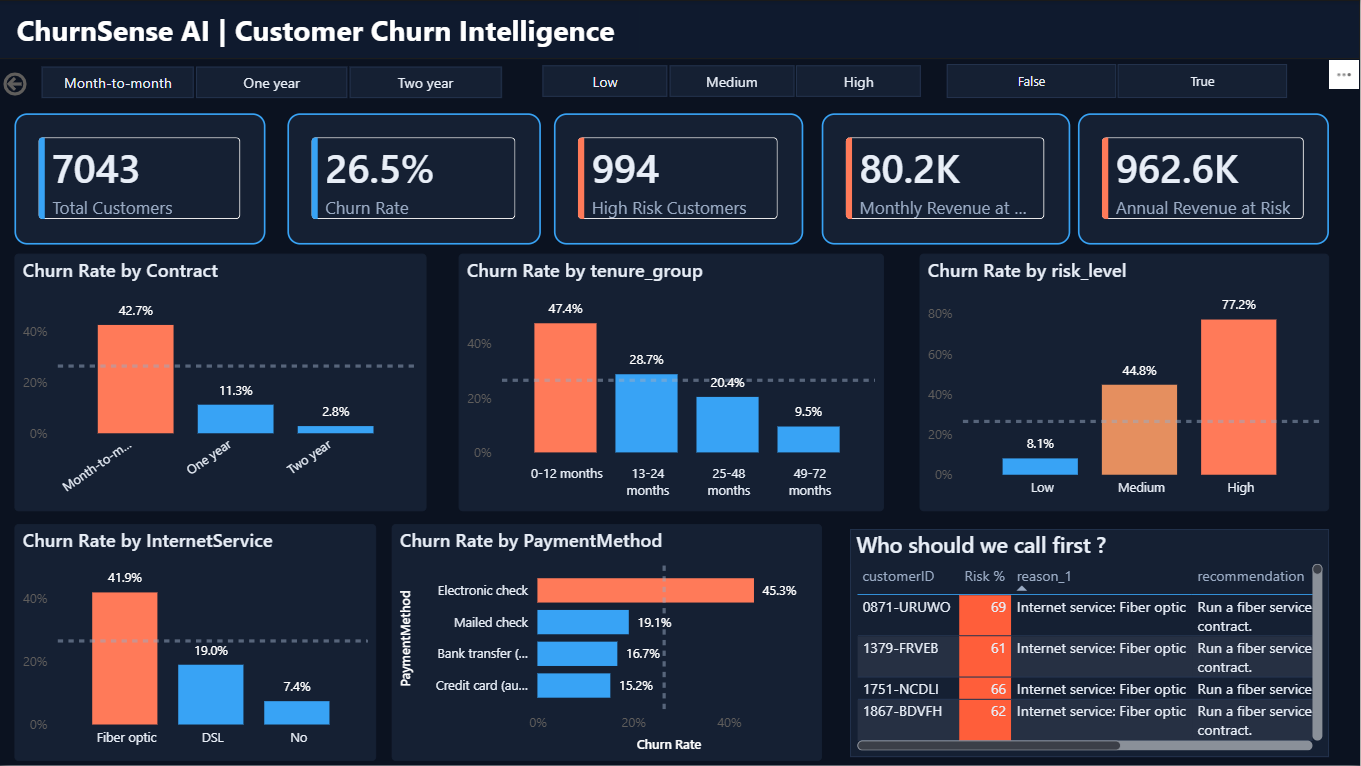

Layout of this report page (visuals, bound fields, positions):
{"tool":"powerbi","page":{"name":"overview","canvas":[1280,720],"ordinal":0},"visuals":[{"type":"shape","box":[0,0,1280,55.7],"z":0},{"type":"textbox","box":[0,4.8,603.1,46],"z":1000},{"type":"cardVisual","fields":{"Data":["powerbi_data.Total Customers"]},"box":[14.5,106.6,236.1,123.5],"z":2000},{"type":"cardVisual","fields":{"Data":["powerbi_data.Churn Rate"]},"box":[271.3,106.6,238.6,123.5],"z":3000},{"type":"cardVisual","fields":{"Data":["powerbi_data.High Risk Customers"]},"box":[521.9,106.6,234.9,123.5],"z":4000},{"type":"cardVisual","fields":{"Data":["powerbi_data.Monthly Revenue at Risk"]},"box":[773.8,106.6,233.7,123.5],"z":5000},{"type":"cardVisual","fields":{"Data":["powerbi_data.Annual Revenue at Risk"]},"box":[1014.8,106.6,236.1,123.5],"z":6000},{"type":"clusteredColumnChart","fields":{"Category":["powerbi_data.Contract"],"Y":["powerbi_data.Churn Rate"]},"box":[14.5,238.6,387.5,242.2],"z":7000},{"type":"clusteredColumnChart","fields":{"Y":["powerbi_data.Churn Rate"],"Category":["powerbi_data.tenure_group"]},"box":[432.3,238.6,399.6,242.2],"z":8000},{"type":"clusteredColumnChart","fields":{"Y":["powerbi_data.Churn Rate"],"Category":["powerbi_data.risk_level"]},"box":[865.9,238.6,385.1,242.2],"z":9000},{"type":"clusteredColumnChart","fields":{"Y":["powerbi_data.Churn Rate"],"Category":["powerbi_data.InternetService"]},"box":[14.5,492.9,340.3,222.8],"z":10000},{"type":"clusteredBarChart","fields":{"Category":["powerbi_data.PaymentMethod"],"Y":["powerbi_data.Churn Rate"]},"box":[369.4,492.9,404.5,222.8],"z":11000},{"type":"tableEx","title":"Who should we call first ?","fields":{"Values":["powerbi_data.customerID","powerbi_data.churn_probability","powerbi_data.reason_1","powerbi_data.recommendation"]},"box":[800.5,497.7,450.5,214.3],"z":12000},{"type":"actionButton","box":[0,59.3,30.3,40],"z":13000},{"type":"slicer","fields":{"Values":["powerbi_data.Contract"]},"box":[14.5,55.7,482,43.6],"z":14000},{"type":"slicer","fields":{"Values":["powerbi_data.risk_level"]},"box":[485.6,54.5,405.7,43.6],"z":15000},{"type":"slicer","fields":{"Values":["powerbi_data.in_test_set"]},"box":[865.9,53.3,369.4,46],"z":16000}]}

Visuals, with their boxes in screenshot pixels (x1, y1, x2, y2), scaled from the page's 1280x720 canvas onto the 1361x766 screenshot:
shape: crop(0, 0, 1360, 59)
textbox: crop(0, 5, 641, 54)
cardVisual - powerbi_data.Total Customers: crop(15, 113, 266, 245)
cardVisual - powerbi_data.Churn Rate: crop(288, 113, 542, 245)
cardVisual - powerbi_data.High Risk Customers: crop(555, 113, 805, 245)
cardVisual - powerbi_data.Monthly Revenue at Risk: crop(823, 113, 1071, 245)
cardVisual - powerbi_data.Annual Revenue at Risk: crop(1079, 113, 1330, 245)
clusteredColumnChart - powerbi_data.Contract x powerbi_data.Churn Rate: crop(15, 254, 427, 512)
clusteredColumnChart - powerbi_data.Churn Rate x powerbi_data.tenure_group: crop(460, 254, 885, 512)
clusteredColumnChart - powerbi_data.Churn Rate x powerbi_data.risk_level: crop(921, 254, 1330, 512)
clusteredColumnChart - powerbi_data.Churn Rate x powerbi_data.InternetService: crop(15, 524, 377, 761)
clusteredBarChart - powerbi_data.PaymentMethod x powerbi_data.Churn Rate: crop(393, 524, 823, 761)
"Who should we call first ?" tableEx: crop(851, 529, 1330, 757)
actionButton: crop(0, 63, 32, 106)
slicer - powerbi_data.Contract: crop(15, 59, 528, 106)
slicer - powerbi_data.risk_level: crop(516, 58, 948, 104)
slicer - powerbi_data.in_test_set: crop(921, 57, 1313, 106)
